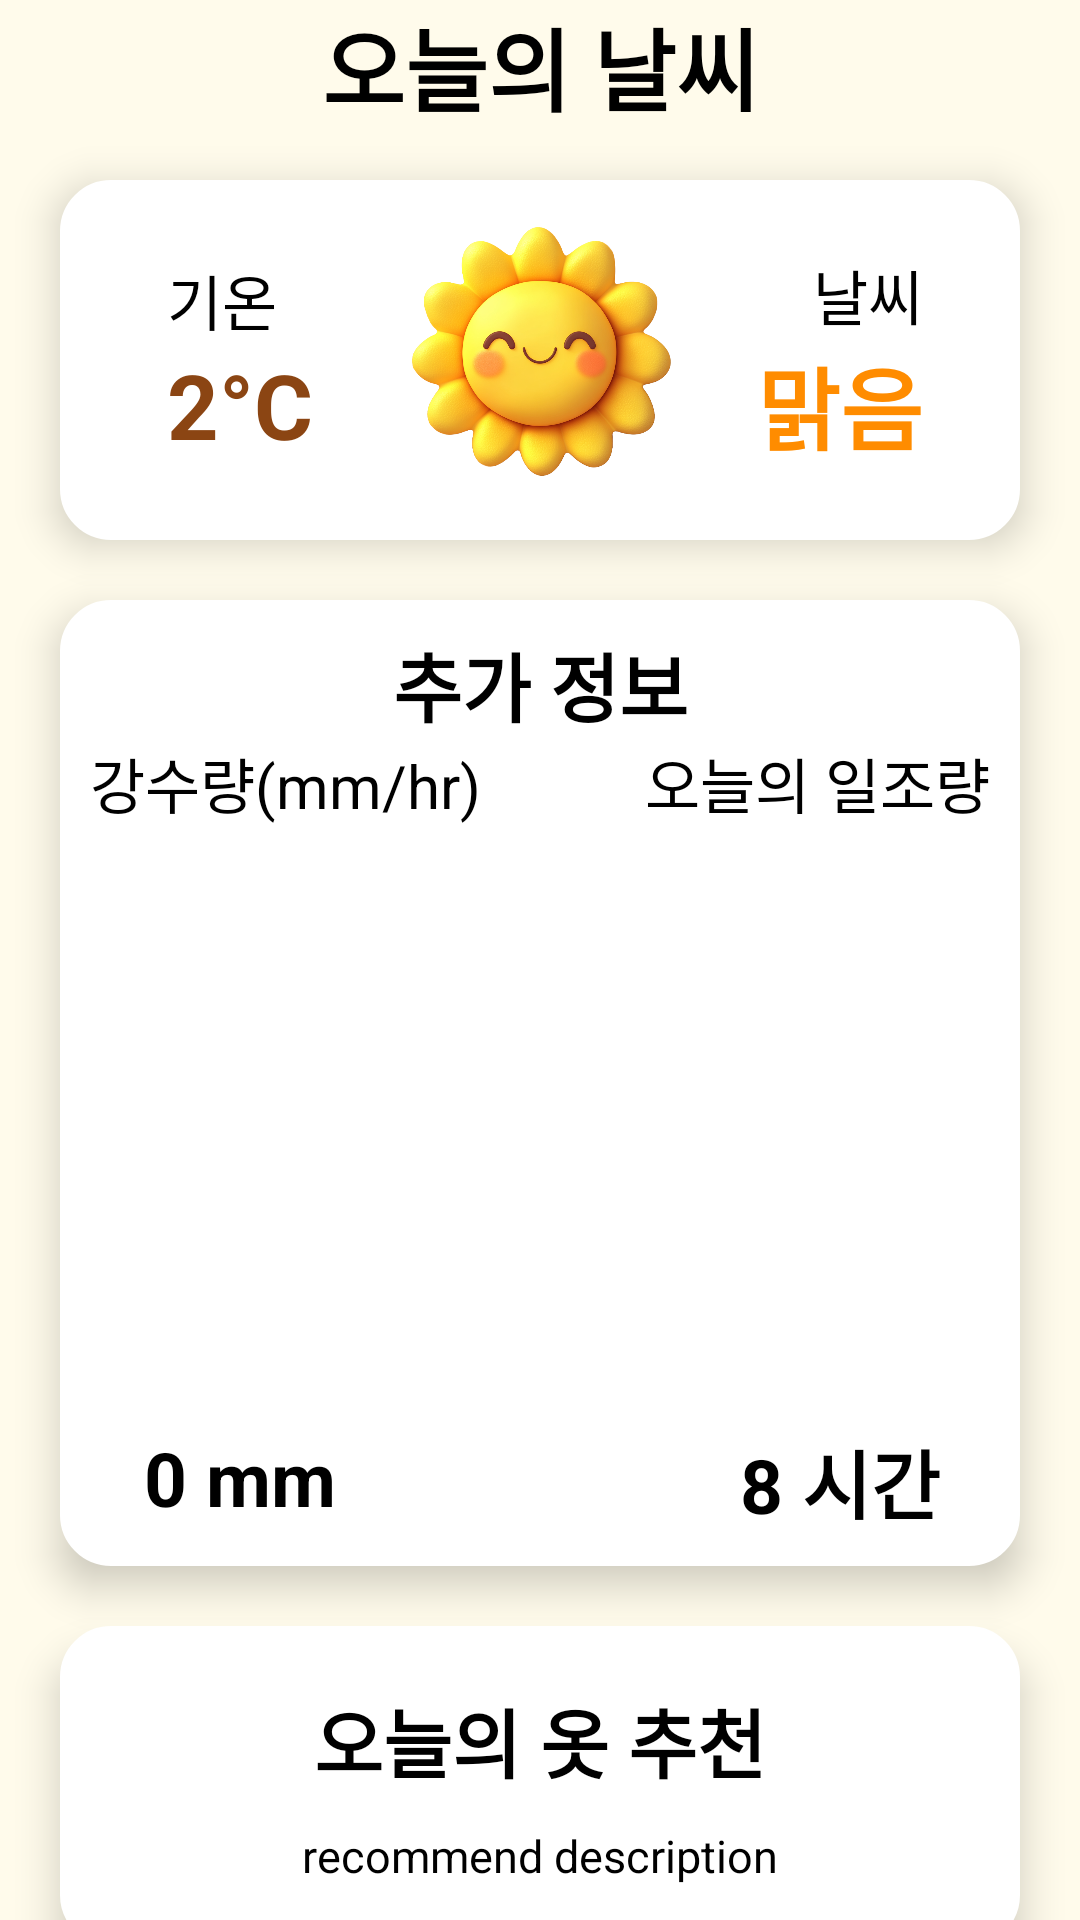

Icon click points for this 1080 x 1920 phone screenshot, format point (x, y):
clear: point (541, 351)
